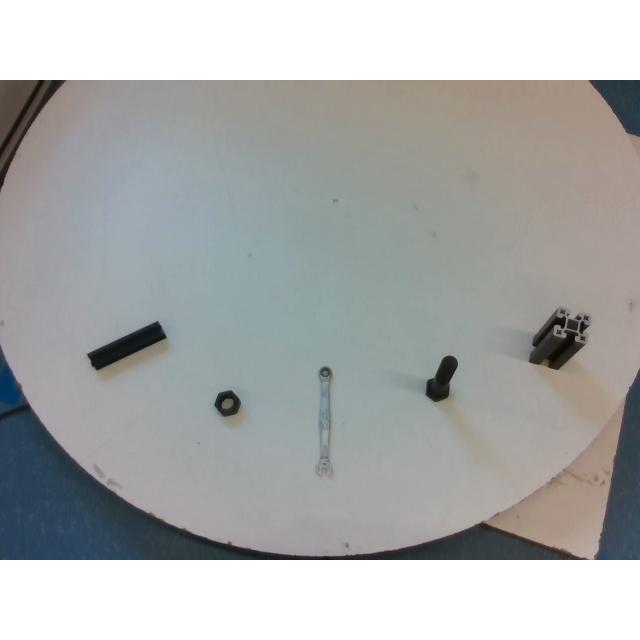F20_20_B: (86, 322, 166, 370)
M20: (214, 390, 240, 416)
M20_100: (425, 355, 457, 401)
S40_40_B: (530, 307, 590, 369)
Wrench: (316, 366, 332, 476)
